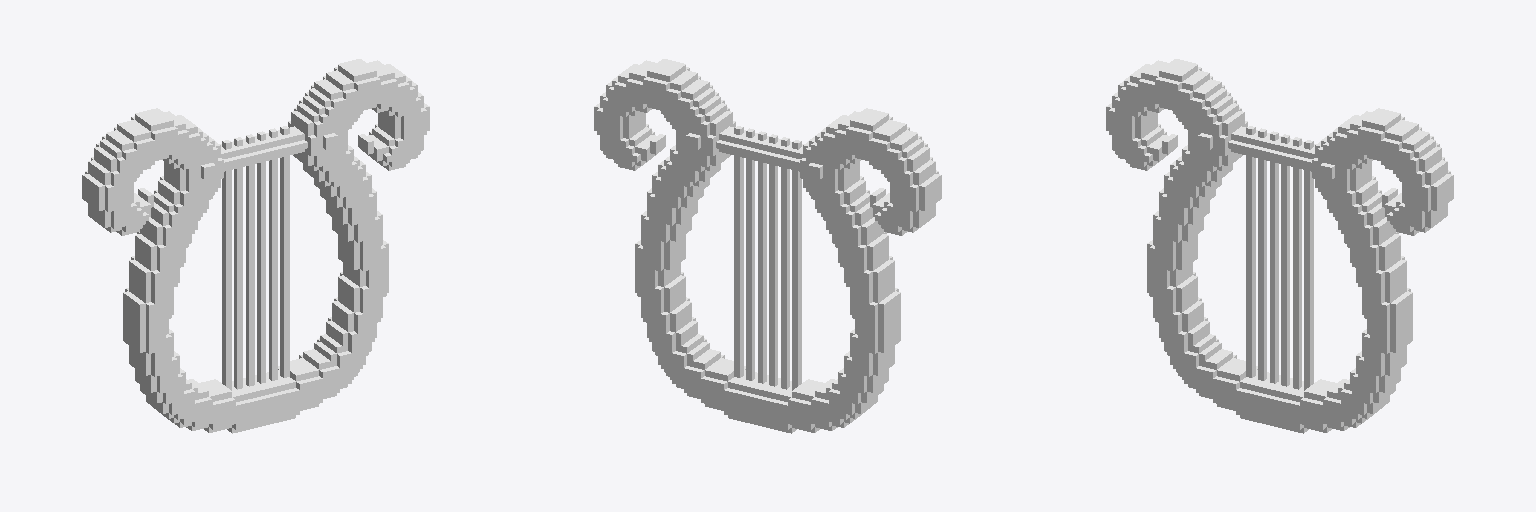
File: lyre.obj
3 renders of one model, left to right at view 1: azimuth 30°, elevation 25°; view 2: azimuth 150°, elevation 25°; view 3: azimuth 330°, elevation 25°, orthographic.
Parts seen in each view (by area): view 1: object 1; view 2: object 1; view 3: object 1.
Part boxes in pixels (bbox=[...]): object 1: bbox=[82, 59, 429, 433]; object 1: bbox=[594, 59, 941, 433]; object 1: bbox=[1106, 59, 1453, 433].
Bounding box in the file's own units: 5.7 × 5.4 × 0.9.